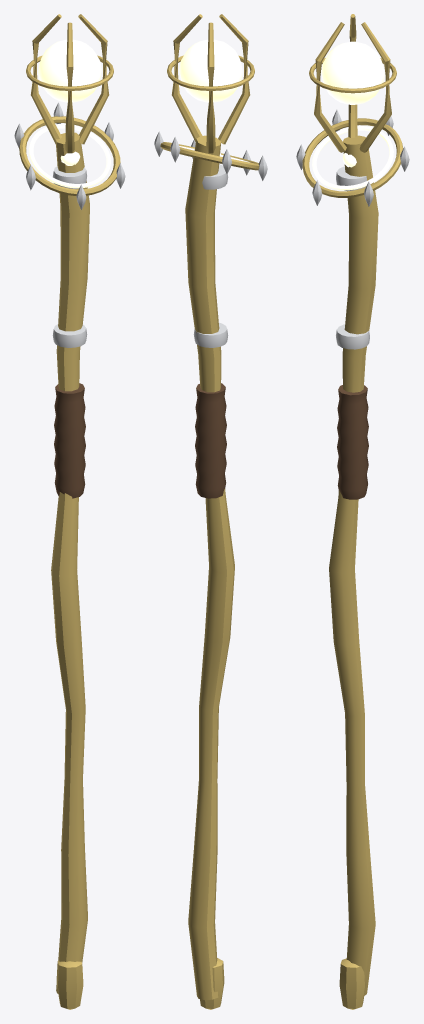
The model's file is esc_w_mage_staff_1.glb.
3 views of the same model, side by side, from view 1: azimuth 30°, elevation 25°; view 2: azimuth 150°, elevation 25°; view 3: azimuth 330°, elevation 25° (orthographic).
Visible parts, largest first — view 1: esc_w_mage_staff_1; view 2: esc_w_mage_staff_1; view 3: esc_w_mage_staff_1.
Boxes of the visible parts, left/top/right/bottom form: esc_w_mage_staff_1: left=14, top=14, right=125, bottom=1009; esc_w_mage_staff_1: left=154, top=14, right=267, bottom=1009; esc_w_mage_staff_1: left=296, top=14, right=409, bottom=1009.
Size of the model in its own units: 0.1976 by 1.88 by 0.1794.
